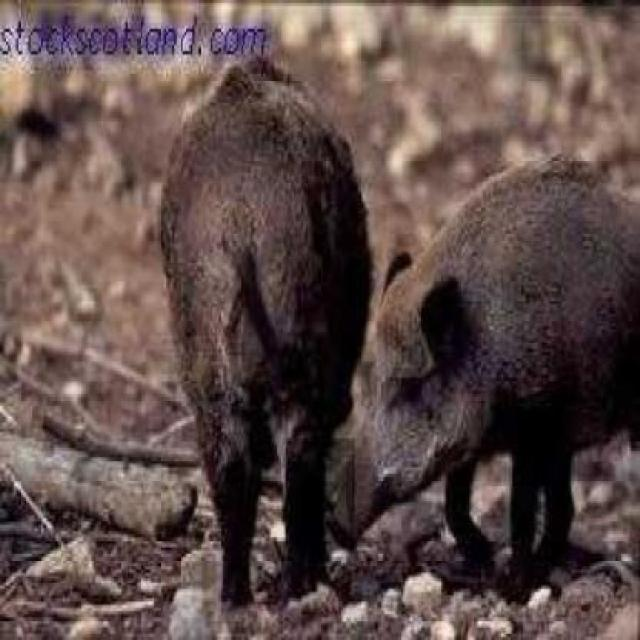Boar: (105, 23, 380, 580), (337, 134, 640, 597)
